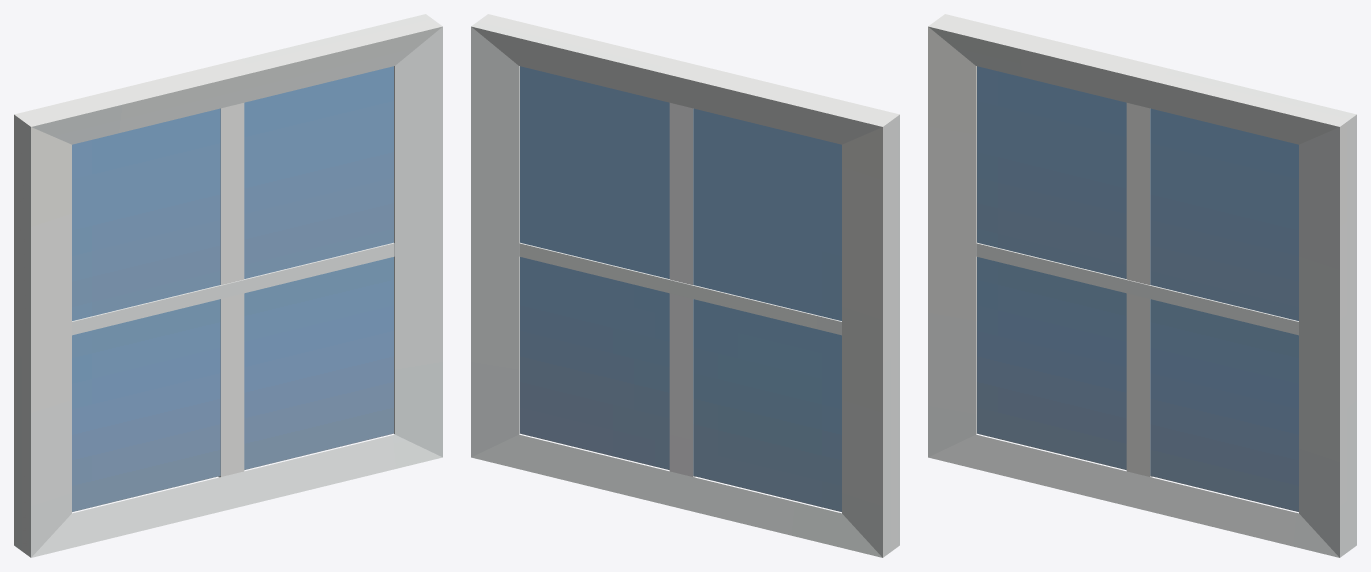
Rendered from window-square.glb.
3 views of the same model, side by side, from view 1: azimuth 30°, elevation 25°; view 2: azimuth 150°, elevation 25°; view 3: azimuth 330°, elevation 25° (orthographic).
Parts seen in each view (by area): view 1: body; view 2: body; view 3: body.
Part boxes in pixels (x1,y1,x2,y2): body: (14,14,442,557); body: (471,14,899,557); body: (928,14,1356,557).
Size of the model in its own units: 1.2 by 1.2 by 0.0863.
Materials: 1 (1 with a texture image).
